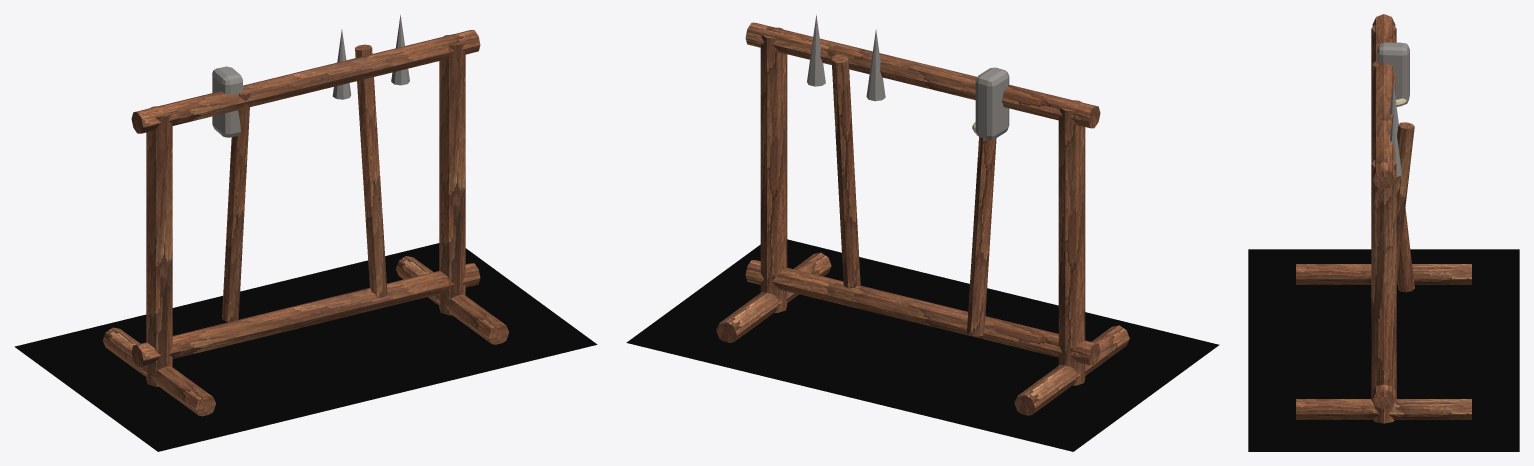
File: tool-stand.glb
3 renders of one model, left to right at view 1: azimuth 30°, elevation 25°; view 2: azimuth 150°, elevation 25°; view 3: azimuth 270°, elevation 25°, orthographic. The views are drawn at different scales.
Parts seen in each view (by area): view 1: ContactShadow, barTop, barLow, post.001, post, pickHandle, axeHandle, foot, foot.001, axeHead; view 2: ContactShadow, barLow, barTop, post, post.001, pickHandle, axeHandle, foot, foot.001, axeHead, pickTipL, pickTipR; view 3: ContactShadow, post.001, foot.001, barTop, foot, pickHandle, axeHead, axeHandle, barLow, post, pickTipR.
Boxes of the visible parts, x1,y1,x2,y2 form: ContactShadow: [14, 243, 597, 451]; barTop: [131, 30, 480, 133]; barLow: [131, 263, 480, 366]; post.001: [439, 34, 465, 315]; post: [146, 106, 172, 386]; pickHandle: [355, 44, 387, 298]; axeHandle: [222, 90, 250, 322]; foot: [102, 327, 215, 416]; foot.001: [396, 256, 509, 344]; axeHead: [212, 66, 242, 137]; ContactShadow: [626, 239, 1219, 451]; barLow: [745, 260, 1100, 365]; barTop: [745, 22, 1100, 128]; post: [1058, 100, 1085, 385]; post.001: [760, 27, 787, 312]; pickHandle: [831, 54, 860, 288]; axeHandle: [967, 137, 996, 336]; foot: [1014, 325, 1129, 415]; foot.001: [716, 252, 831, 342]; axeHead: [975, 67, 1009, 139]; pickTipL: [866, 29, 885, 101]; pickTipR: [807, 14, 825, 86]; ContactShadow: [1248, 249, 1519, 451]; post.001: [1371, 160, 1396, 423]; foot.001: [1296, 399, 1471, 419]; barTop: [1372, 14, 1395, 189]; foot: [1296, 264, 1471, 284]; pickHandle: [1396, 122, 1414, 281]; axeHead: [1377, 42, 1409, 104]; axeHandle: [1372, 61, 1414, 292]; barLow: [1372, 384, 1395, 409]; post: [1371, 25, 1396, 162]; pickTipR: [1389, 111, 1401, 176].
Size of the model in its own units: 1.5 by 1.01 by 0.85.
Materials: 5 (2 with a texture image).
